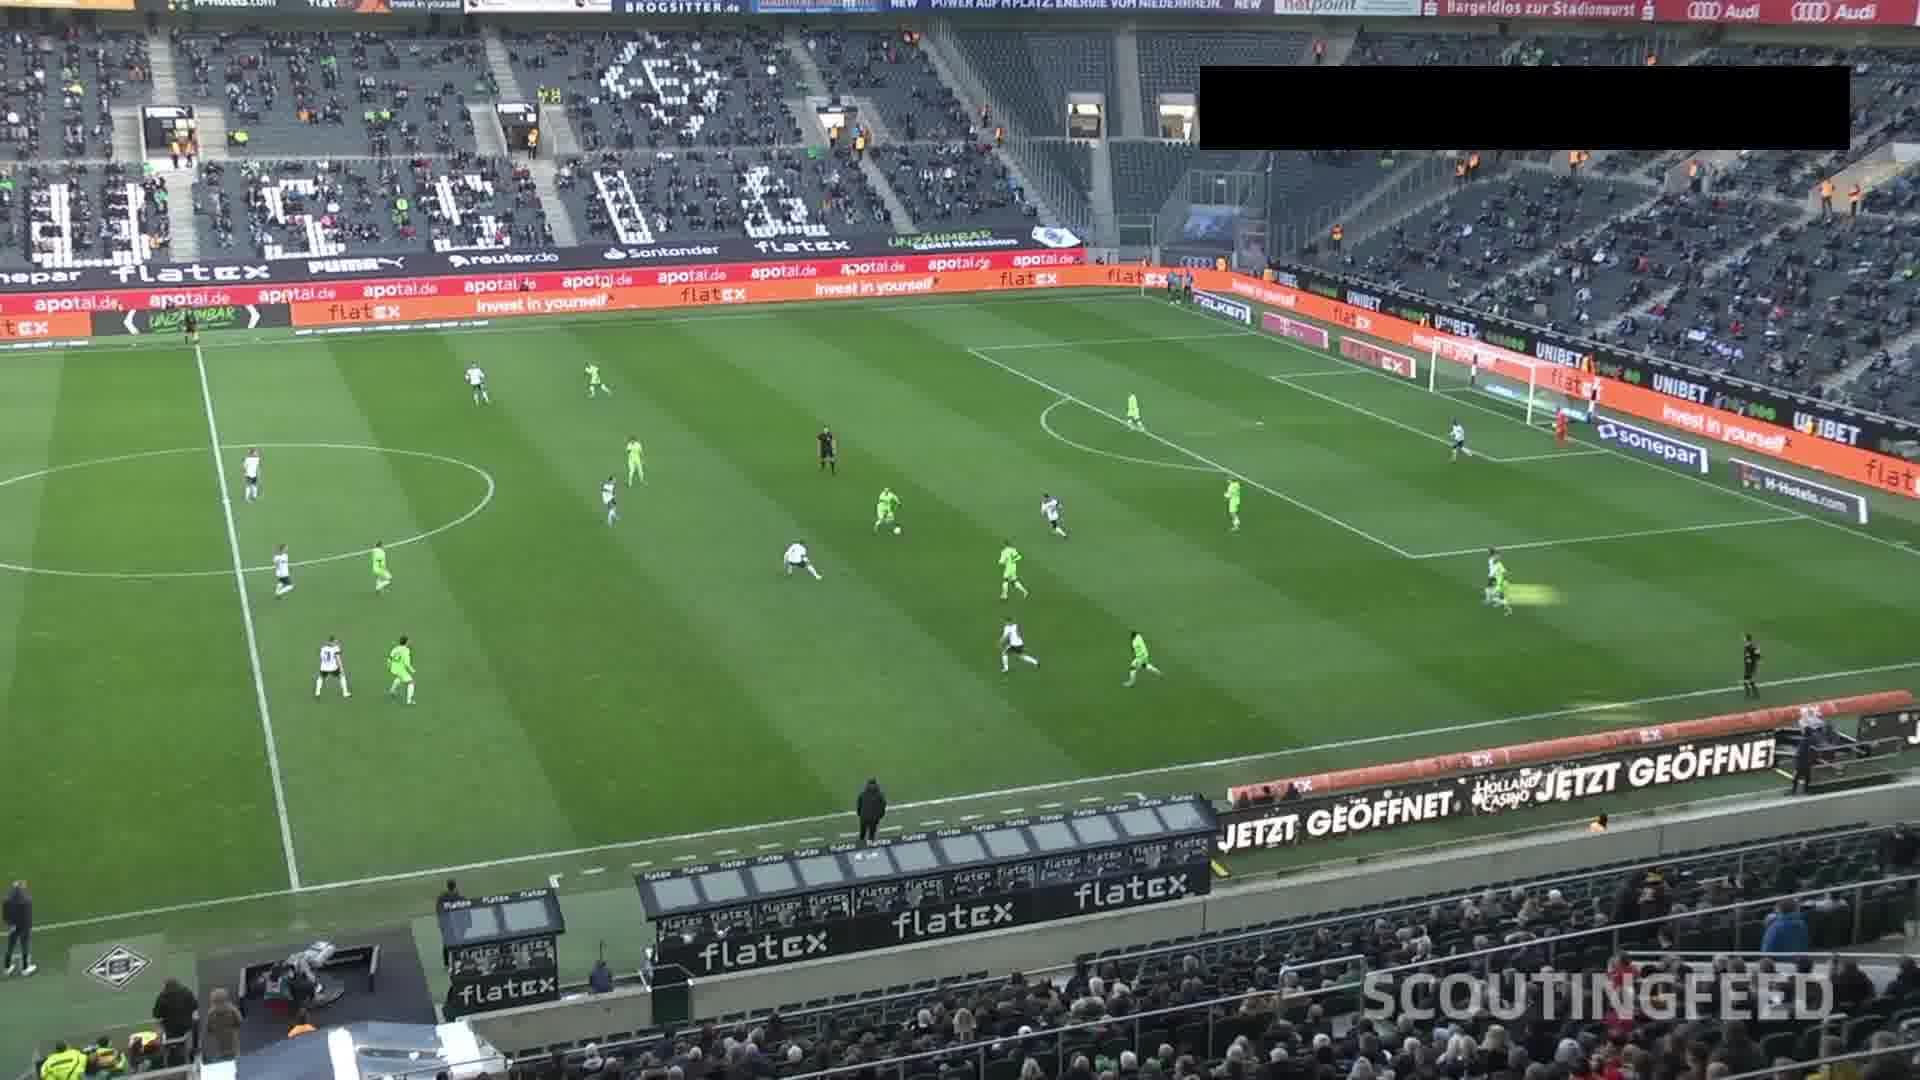football: (893, 526, 902, 535)
